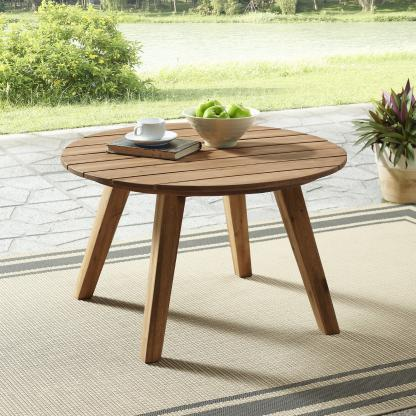table: (56, 114, 352, 366)
